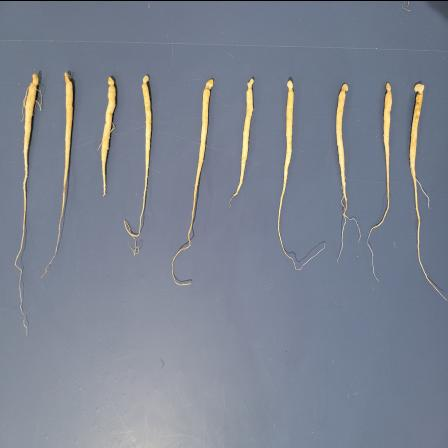Ginseng: (276, 75, 326, 269), (172, 70, 216, 286), (408, 80, 448, 302), (12, 70, 42, 334), (40, 65, 76, 279), (120, 69, 154, 255), (367, 72, 394, 280), (335, 79, 362, 257), (226, 72, 257, 208), (96, 71, 118, 196)
head: (414, 82, 426, 96), (203, 78, 214, 92), (246, 76, 255, 92), (28, 72, 38, 86), (339, 81, 349, 94), (286, 78, 294, 94), (64, 70, 73, 84), (384, 80, 392, 94), (108, 75, 116, 89), (142, 73, 150, 86)
